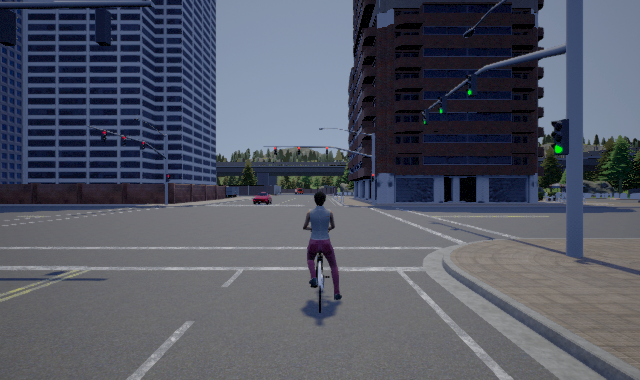bike: (298, 189, 345, 315)
traffic_light: (551, 119, 569, 155), (466, 74, 477, 97), (438, 96, 447, 114), (422, 109, 429, 125), (101, 130, 107, 142), (121, 136, 126, 146), (140, 141, 145, 150), (166, 174, 170, 182), (371, 174, 374, 182), (274, 147, 277, 155), (326, 147, 328, 155), (298, 147, 300, 155)
vehicle: (252, 191, 275, 206)
